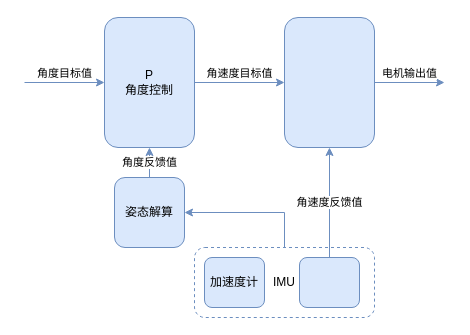
The diagram is 470 pixels wide and 335 high, and some of its shapes have lost their labels. The box of each missing label's shape, as (x1, y1, x2, y2) in pixels:
PID 角速度控制: (284, 16, 374, 148)
陀螺仪: (298, 256, 360, 308)
